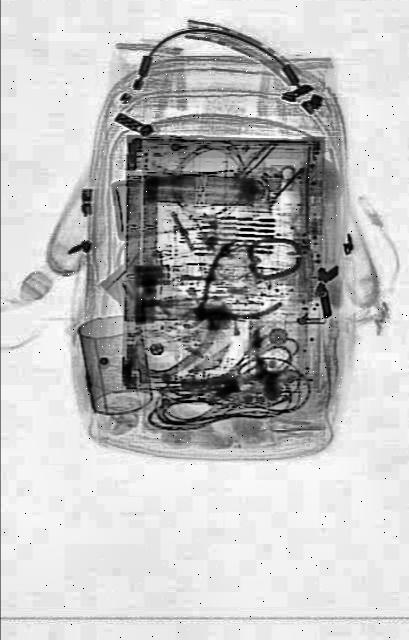Pliers: (166, 225, 282, 368)
